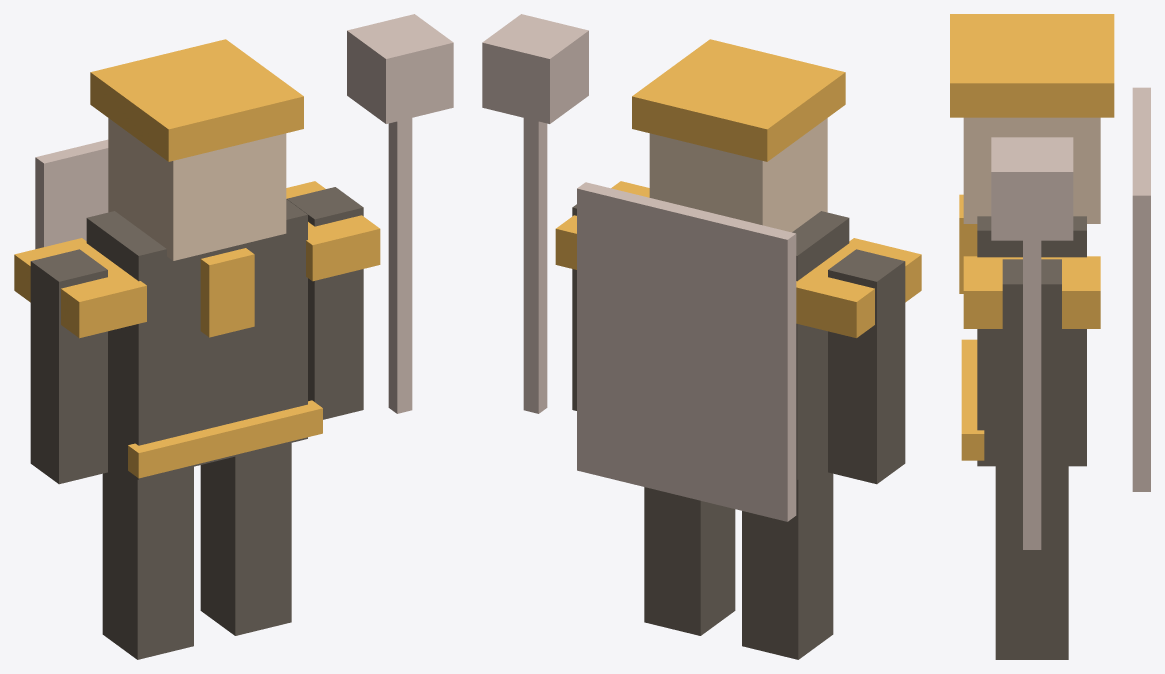
Rendered from 07_brant_mossguard_ranger_of_recovery.glb.
3 renders of one model, left to right at view 1: azimuth 30°, elevation 25°; view 2: azimuth 150°, elevation 25°; view 3: azimuth 270°, elevation 25°, orthographic. The views are drawn at different scales.
Visible parts, largest first — view 1: Brant Mossguard, Ranger of Recovery; view 2: Brant Mossguard, Ranger of Recovery; view 3: Brant Mossguard, Ranger of Recovery.
Boxes of the visible parts, x1,y1,x2,y2 form: Brant Mossguard, Ranger of Recovery: (14,14,453,659); Brant Mossguard, Ranger of Recovery: (482,14,921,659); Brant Mossguard, Ranger of Recovery: (950,14,1150,659).
Bounding box in the file's own units: 1.06 × 1.42 × 0.4507.
